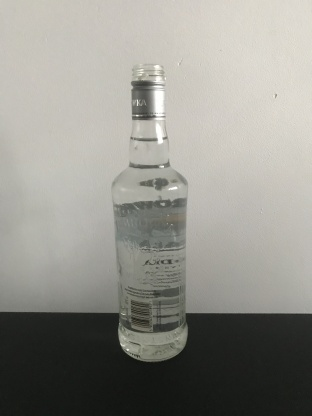nakretka: (129, 61, 167, 120)
